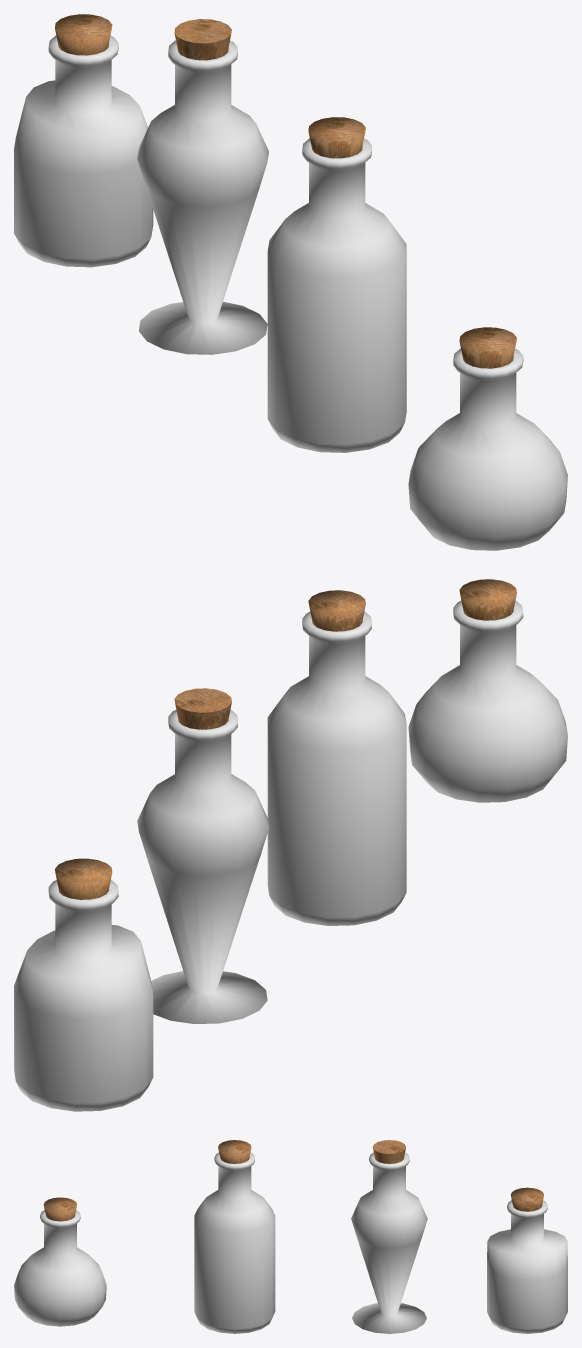
Rendered from PotionBottles 1.fbx.
3 renders of one model, top to bottom at view 1: azimuth 30°, elevation 25°; view 2: azimuth 150°, elevation 25°; view 3: azimuth 270°, elevation 25°, orthographic. The views are drawn at different scales.
Visible parts, largest first — view 1: Bottle, Bottle.001, Bottle.003, Bottle.002, Cork.001, Cork.003, Cork, Cork.002; view 2: Bottle, Bottle.001, Bottle.003, Bottle.002, Cork.001, Cork.002, Cork, Cork.003; view 3: Bottle, Bottle.001, Bottle.003, Bottle.002, Cork, Cork.002, Cork.003, Cork.001.
Part boxes in pixels (x1,y1,x2,y2): Bottle: (267, 138, 406, 452); Bottle.001: (137, 40, 268, 354); Bottle.003: (14, 35, 153, 267); Bottle.002: (408, 348, 567, 550); Cork.001: (174, 19, 231, 60); Cork.003: (55, 14, 112, 55); Cork: (308, 117, 365, 158); Cork.002: (459, 327, 516, 368); Bottle: (267, 611, 406, 925); Bottle.001: (137, 709, 268, 1023); Bottle.003: (14, 880, 153, 1111); Bottle.002: (408, 600, 567, 802); Cork.001: (174, 688, 231, 729); Cork.002: (459, 579, 516, 620); Cork: (308, 590, 365, 631); Cork.003: (55, 858, 112, 899); Bottle: (194, 1152, 275, 1333); Bottle.001: (351, 1152, 427, 1333); Bottle.003: (487, 1200, 567, 1333); Bottle.002: (14, 1210, 106, 1326); Cork: (218, 1140, 251, 1163); Cork.002: (43, 1197, 76, 1221); Cork.003: (511, 1187, 543, 1211); Cork.001: (372, 1140, 405, 1163).
Bounding box in the file's own units: 214 × 434 × 1274.
Materials: 8 (4 with a texture image).
